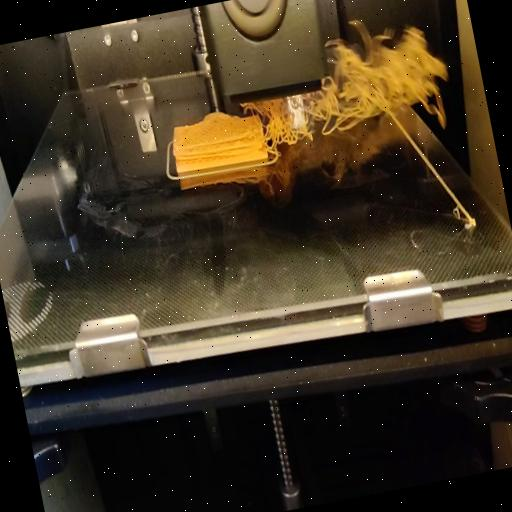spaghetti: (251, 90, 303, 152)
